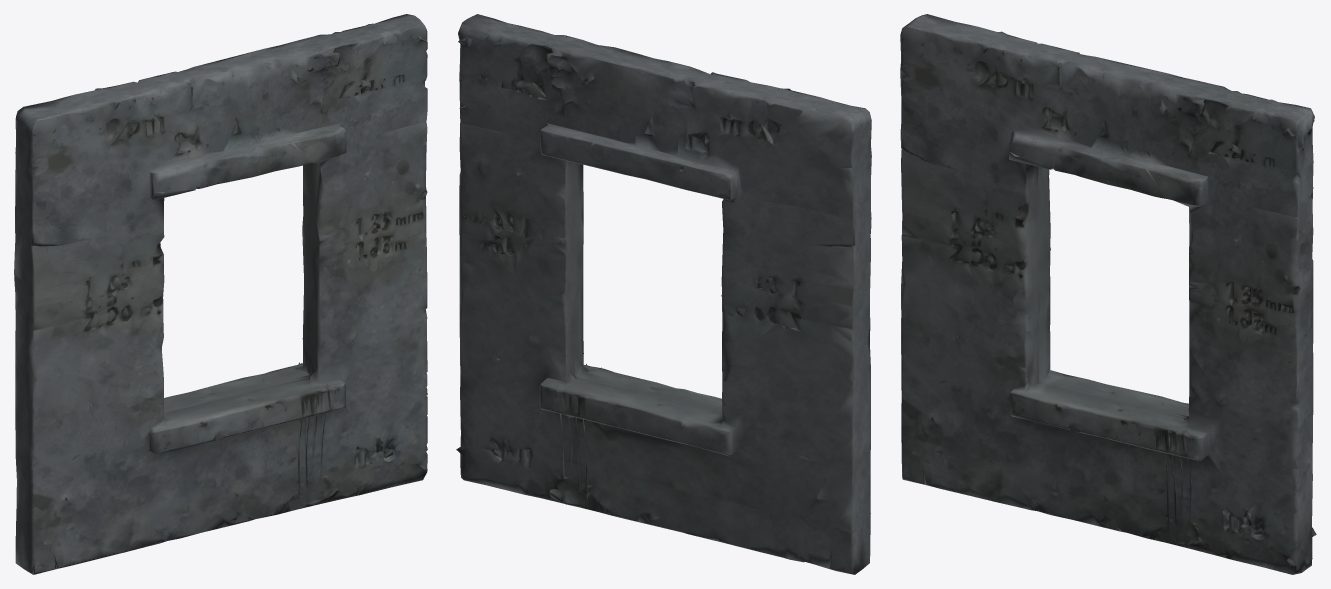
Rendered from level-xw0-window.glb.
The picture shows the model from 3 angles, left to right: view 1: azimuth 30°, elevation 25°; view 2: azimuth 150°, elevation 25°; view 3: azimuth 330°, elevation 25°; orthographic projection.
Visible parts, largest first — view 1: tripo_node_de7a9beb-b2ea-4b9c-a23d-b6763cec2469; view 2: tripo_node_de7a9beb-b2ea-4b9c-a23d-b6763cec2469; view 3: tripo_node_de7a9beb-b2ea-4b9c-a23d-b6763cec2469.
Boxes of the visible parts, left/top/right/bottom form: tripo_node_de7a9beb-b2ea-4b9c-a23d-b6763cec2469: left=14, top=14, right=427, bottom=574; tripo_node_de7a9beb-b2ea-4b9c-a23d-b6763cec2469: left=456, top=14, right=871, bottom=574; tripo_node_de7a9beb-b2ea-4b9c-a23d-b6763cec2469: left=900, top=14, right=1316, bottom=574.
Size of the model in its own units: 2.4 by 2.6 by 0.36.
1 material, 1 textured.
